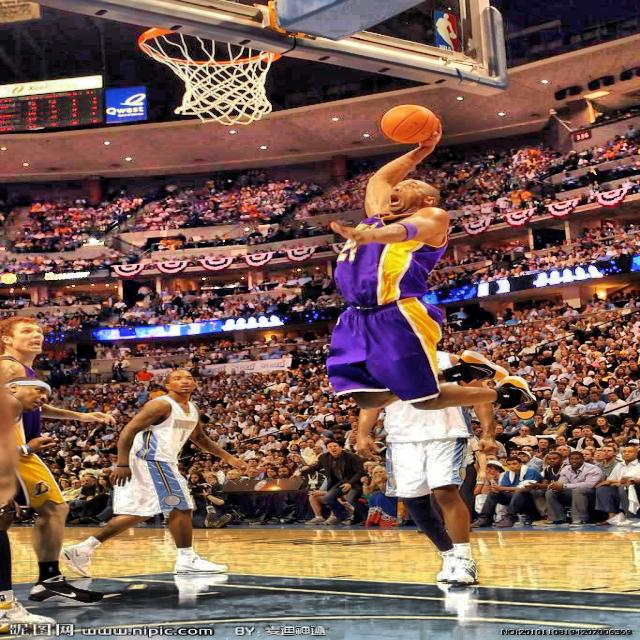board: (381, 105, 438, 143)
rim: (137, 27, 282, 124)
